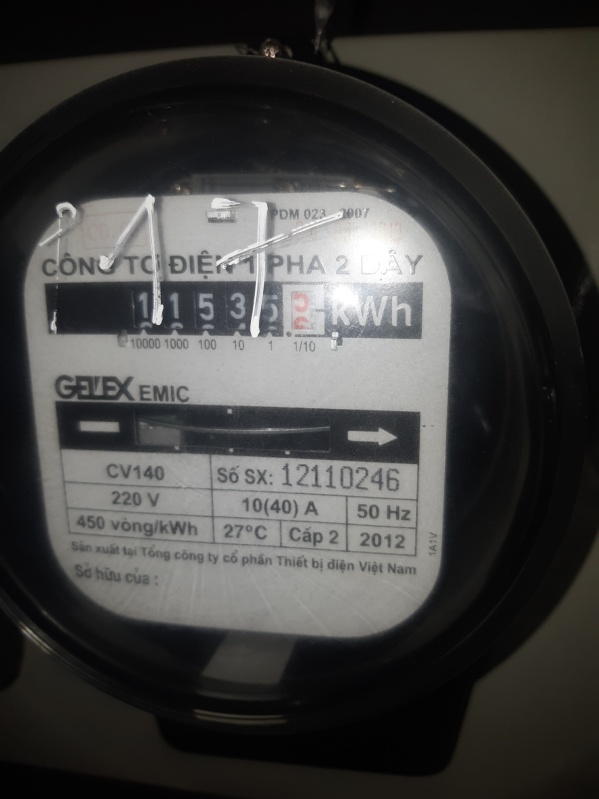counter: (41, 279, 426, 340)
electricity_meter: (4, 74, 593, 708)
